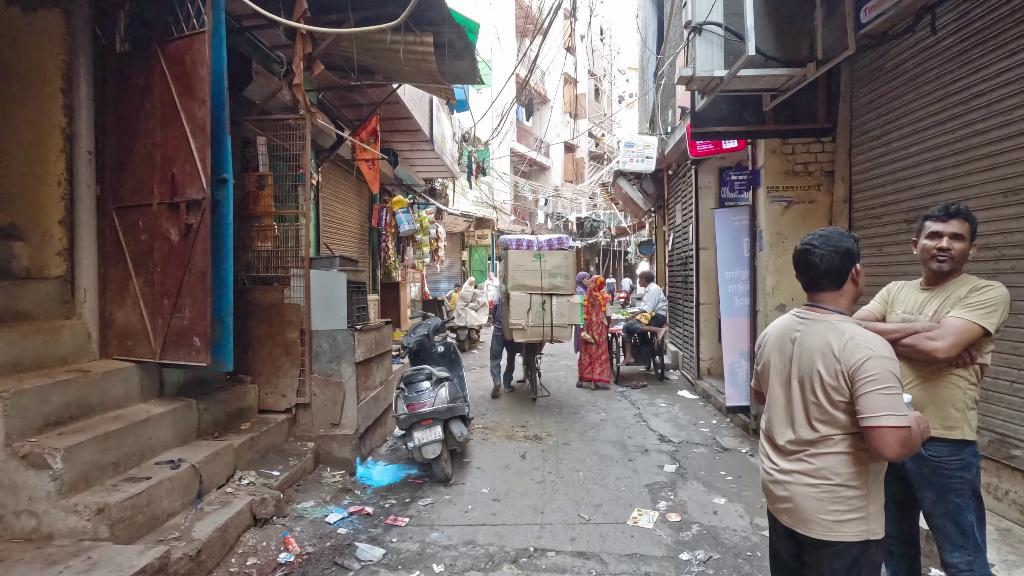garbage: (354, 458, 422, 487), (353, 539, 393, 563), (628, 506, 660, 531), (347, 505, 376, 516), (385, 515, 410, 526), (675, 389, 700, 399)
